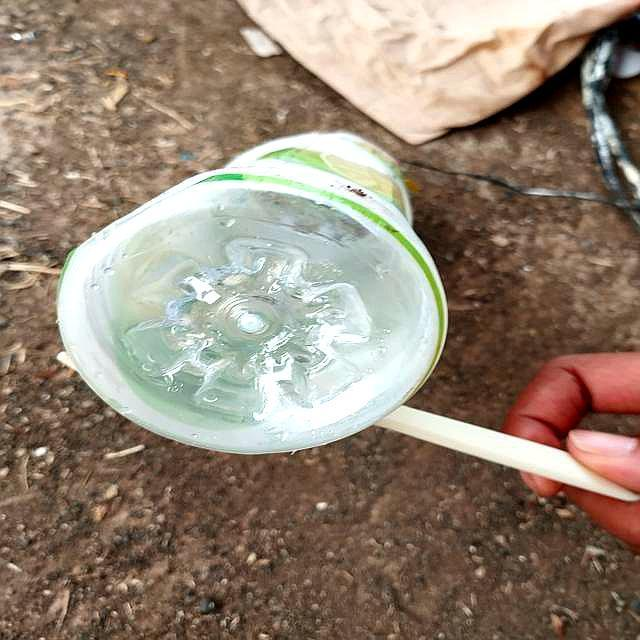Non-biodegradable: (56, 130, 451, 458)
